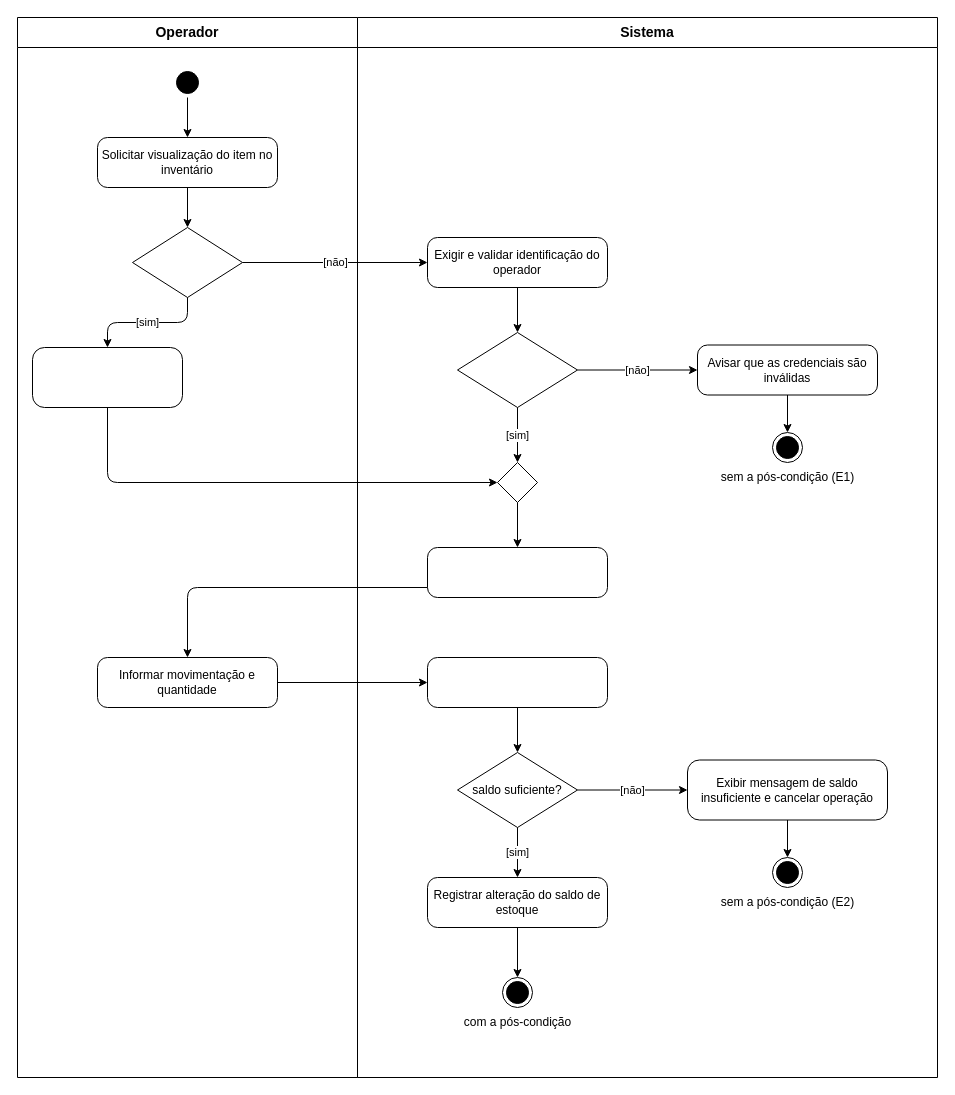
The diagram is 955 pixels wide and 1095 high, and some of its shapes have lost their labels. Each missing label, with the box of its shape:
aplicar filtro?: (132, 226, 242, 298)
Apresentar saldo atual do item selecionado: (426, 546, 608, 598)
credenciais válidas?: (456, 332, 578, 408)
Filtrar exibição entre ingredientes ou embalagens: (32, 346, 182, 408)
Verificar saldo disponível: (426, 656, 608, 708)
